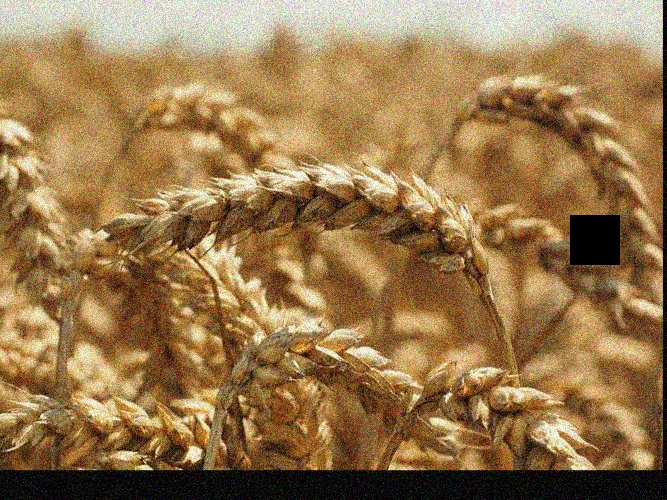wheat: (219, 320, 586, 470), (79, 158, 490, 291)
